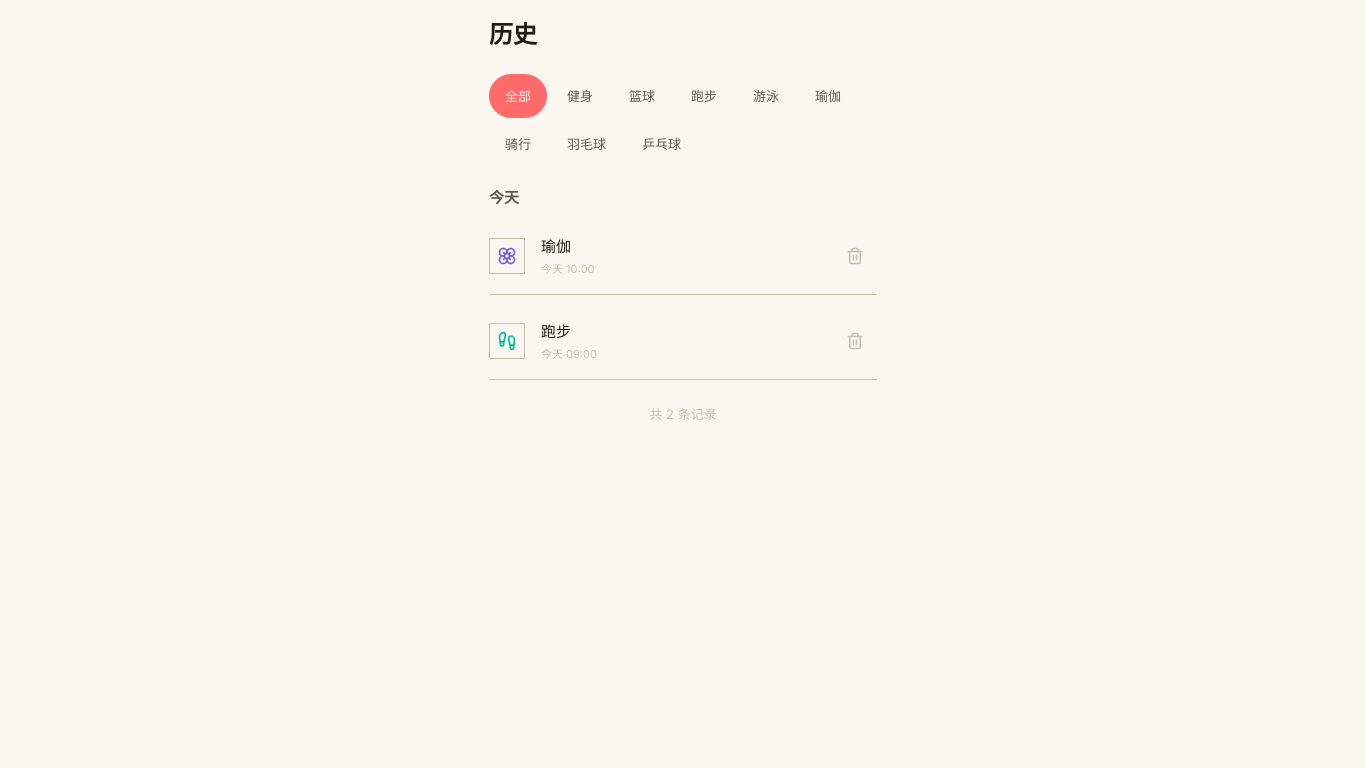
Scenario: History 历史记录页 › 确认删除后记录从列表消失
Check: the element with test id "group-今天" is shown, box [489,186,877,380]
Click the button named "删除" in the row of "今天 10:00".
click(855, 256)  # box [833,234,877,278]
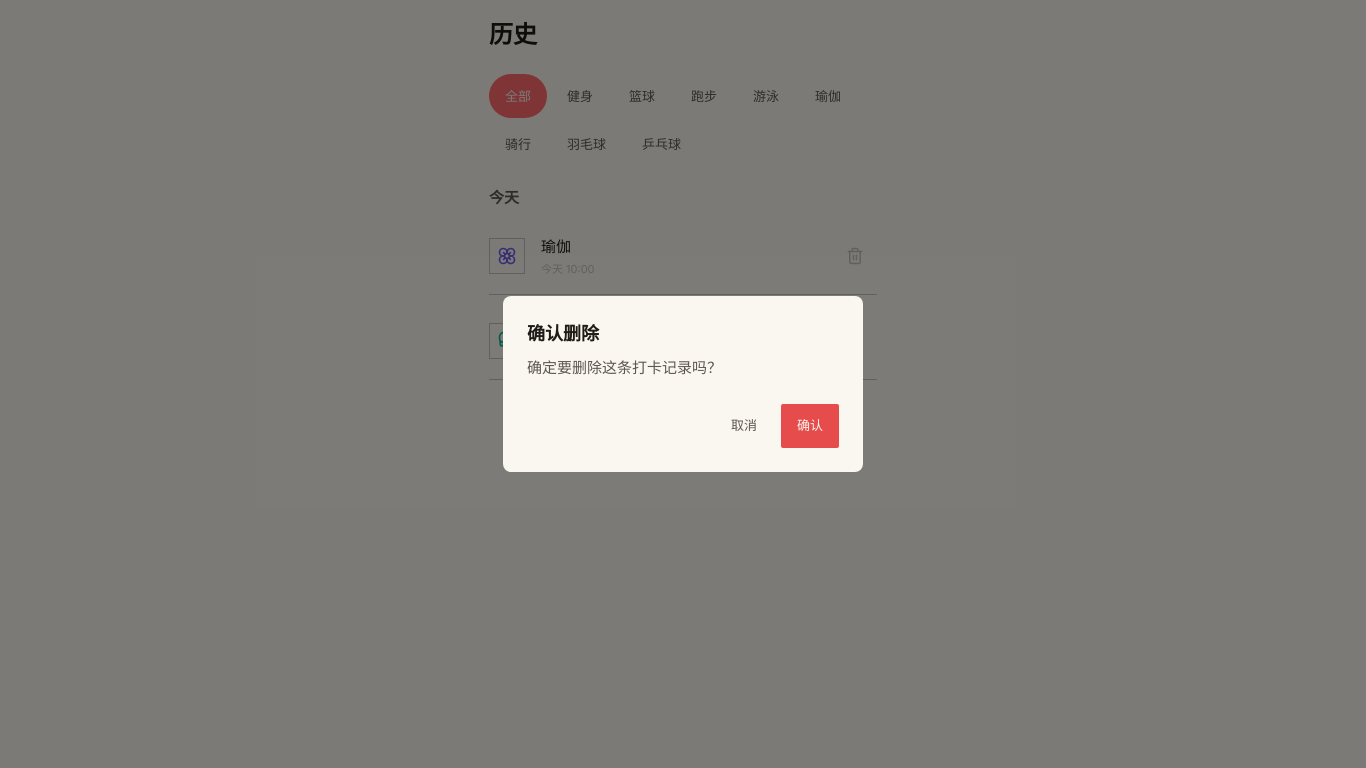
Check: the dialog with test id "confirm-dialog-backdrop" is shown
Click the button "确认".
click(810, 426)  # box [781,404,839,448]
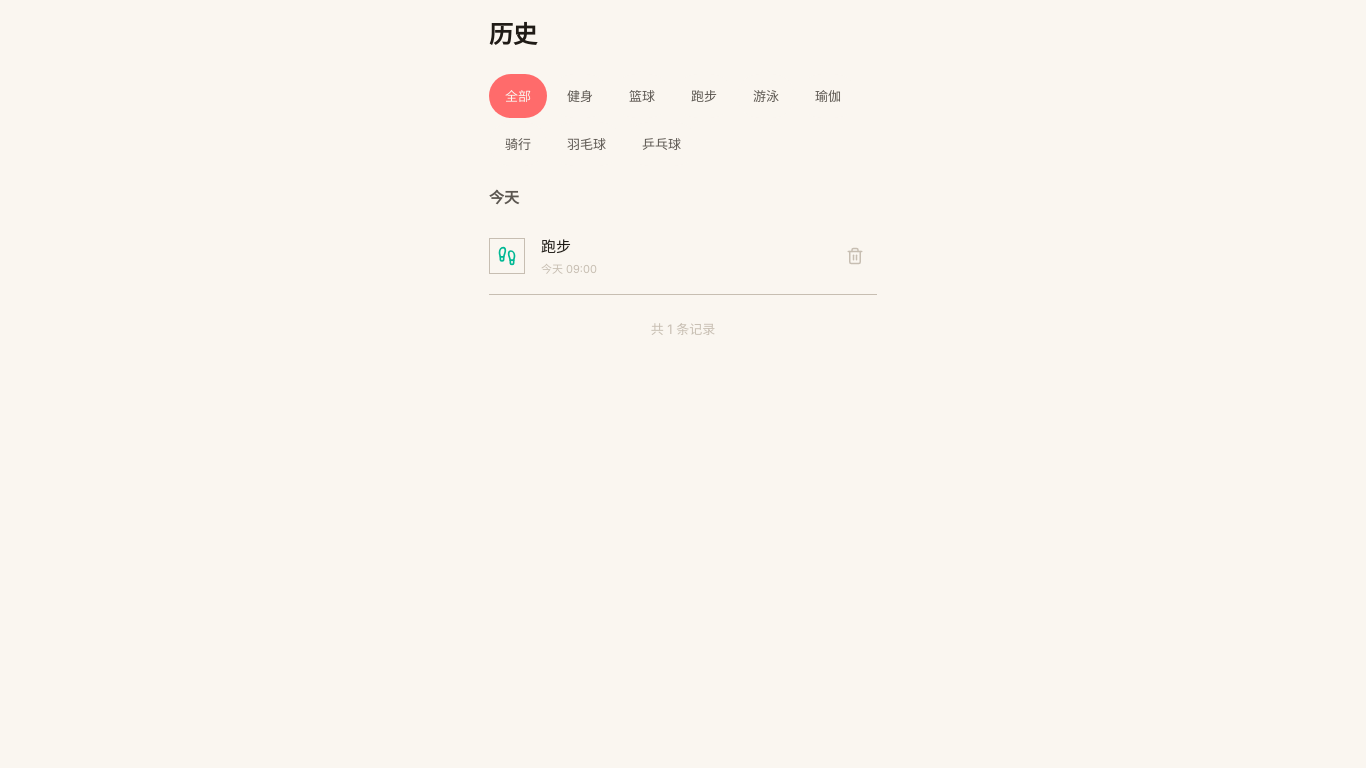
Check: the text with test id "records-count" shows "1", box [667,321,673,337]
